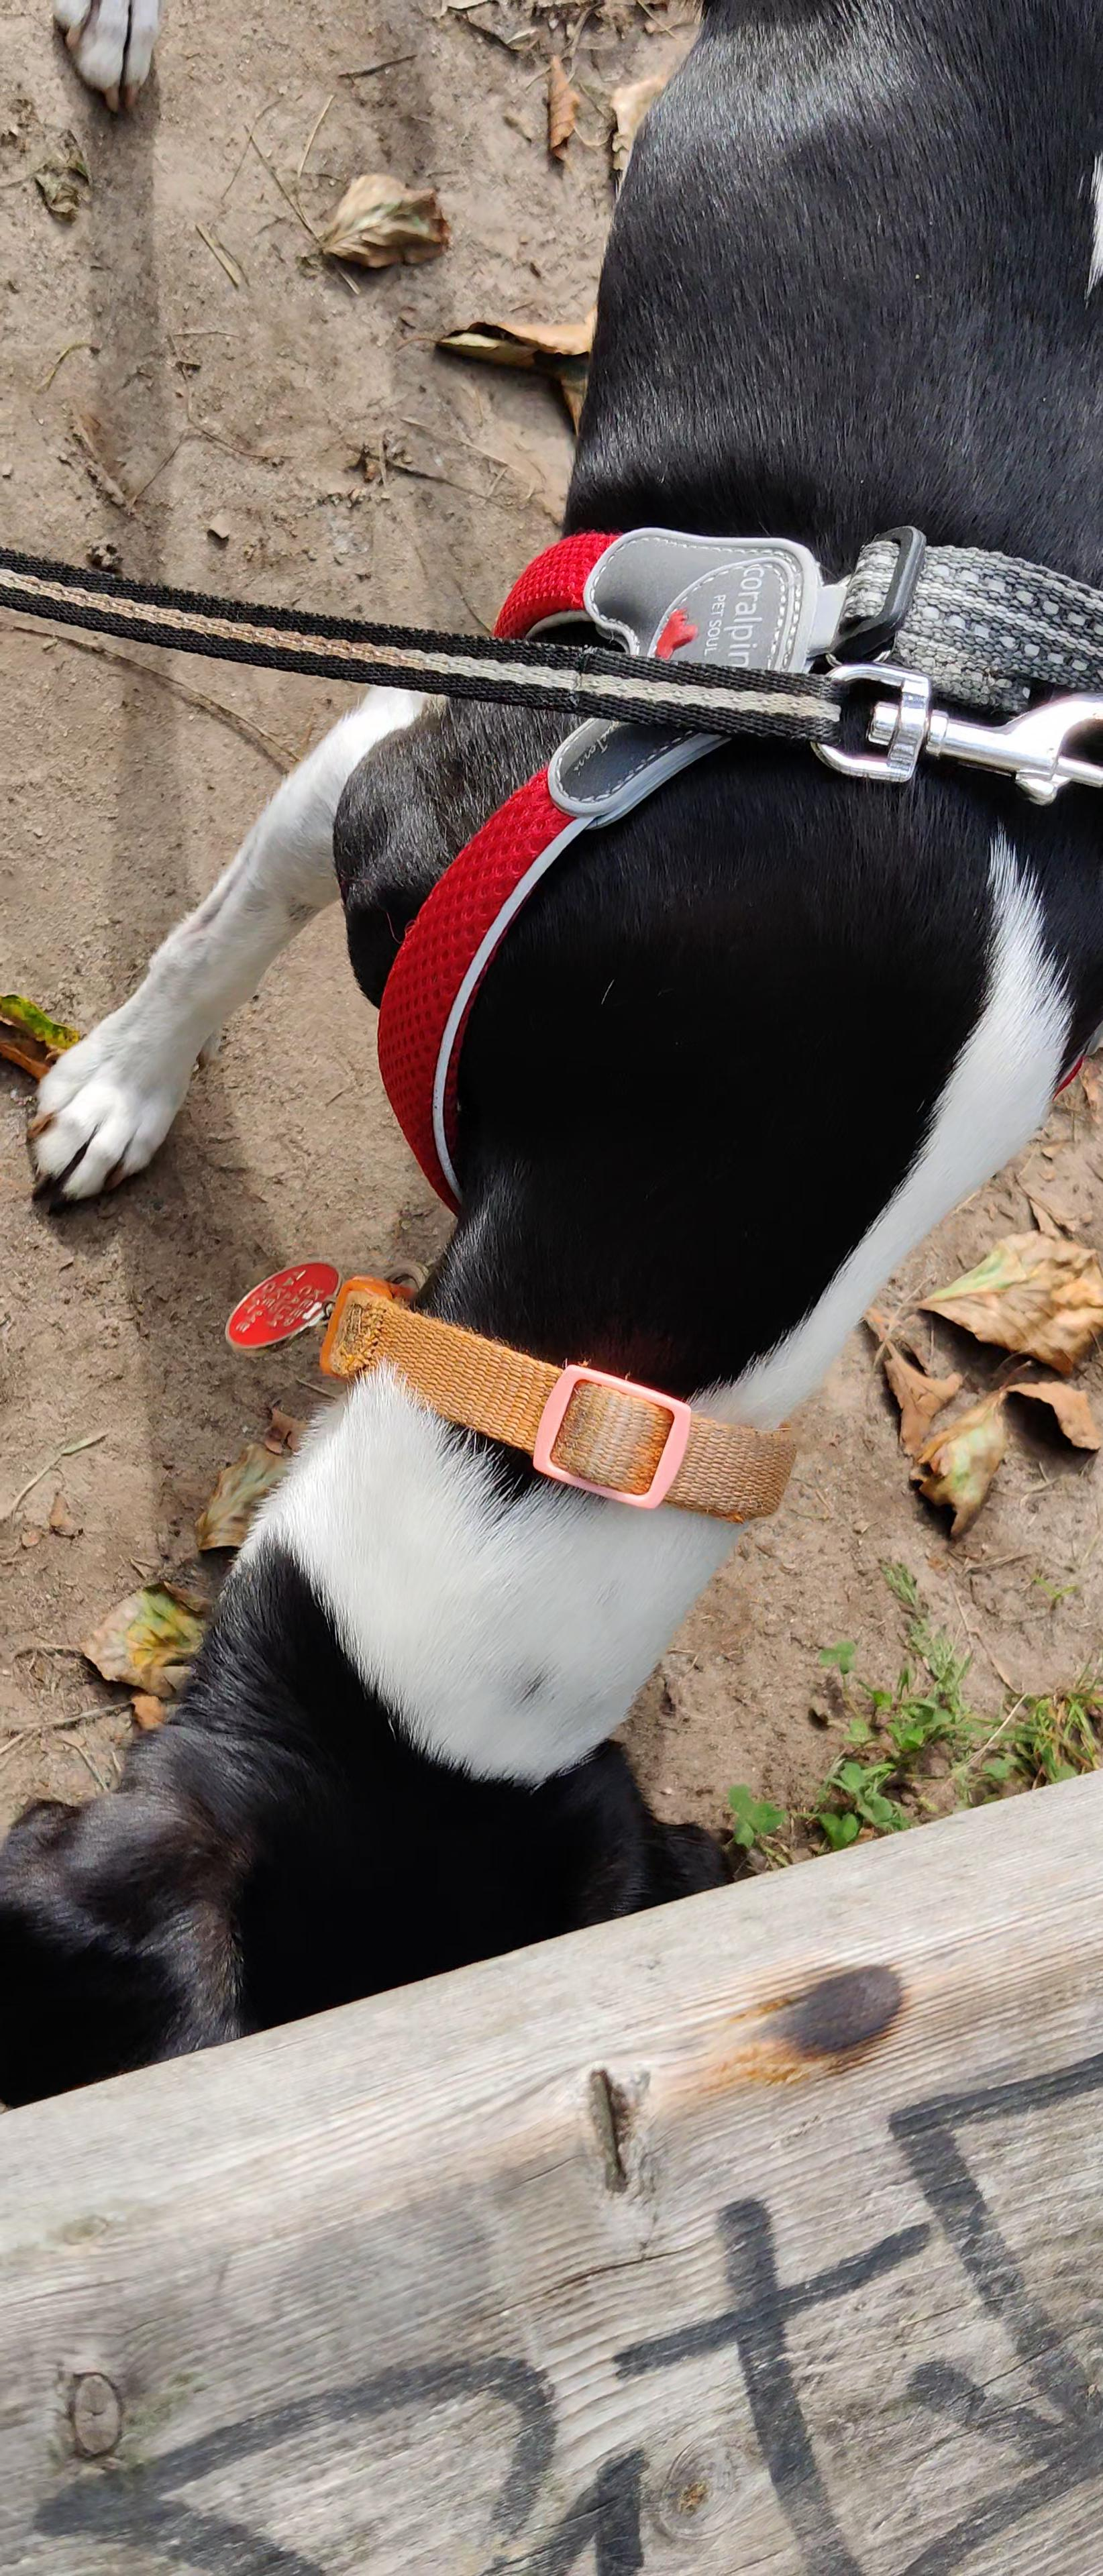Dog: (0, 0, 1103, 2131)
